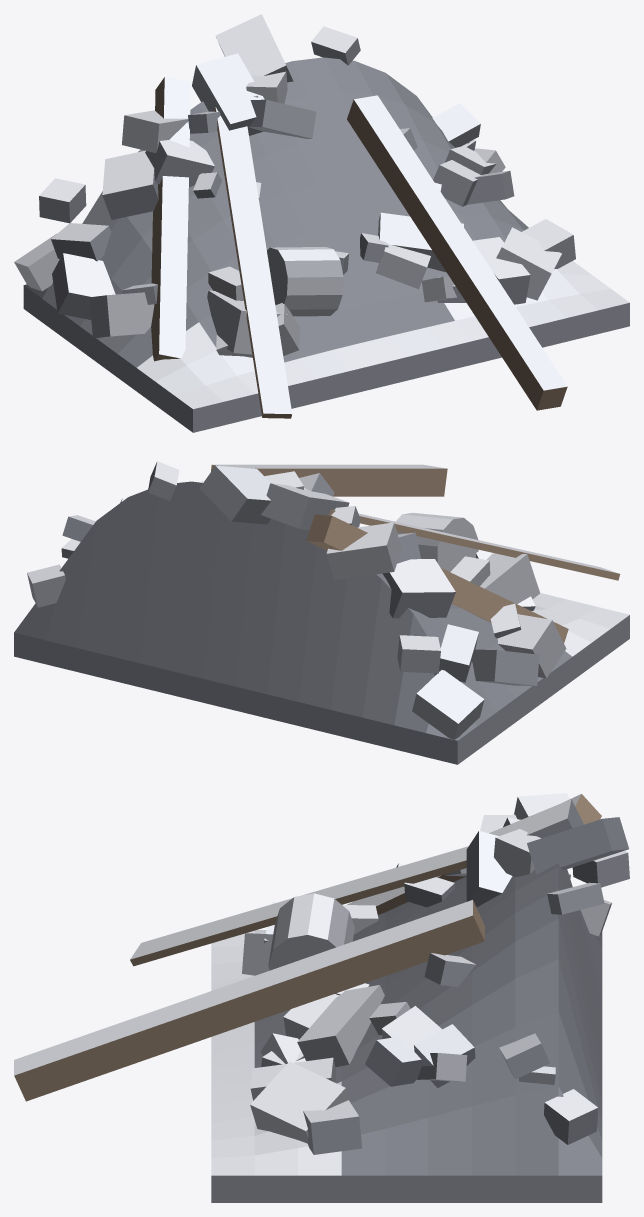
Rendered from PR_Escombros_Encostado_B.fbx.
3 renders of one model, top to bottom at view 1: azimuth 30°, elevation 25°; view 2: azimuth 150°, elevation 25°; view 3: azimuth 270°, elevation 25°, orthographic. The views are drawn at different scales.
Visible parts, largest first — view 1: PR_Escombros_Encostado_B; view 2: PR_Escombros_Encostado_B; view 3: PR_Escombros_Encostado_B.
Boxes of the visible parts, x1=… form: PR_Escombros_Encostado_B: x1=14, y1=14, x2=629, y2=432; PR_Escombros_Encostado_B: x1=14, y1=461, x2=629, y2=764; PR_Escombros_Encostado_B: x1=14, y1=793, x2=629, y2=1202.
Size of the model in its own units: 6.11 by 3 by 6.14.
